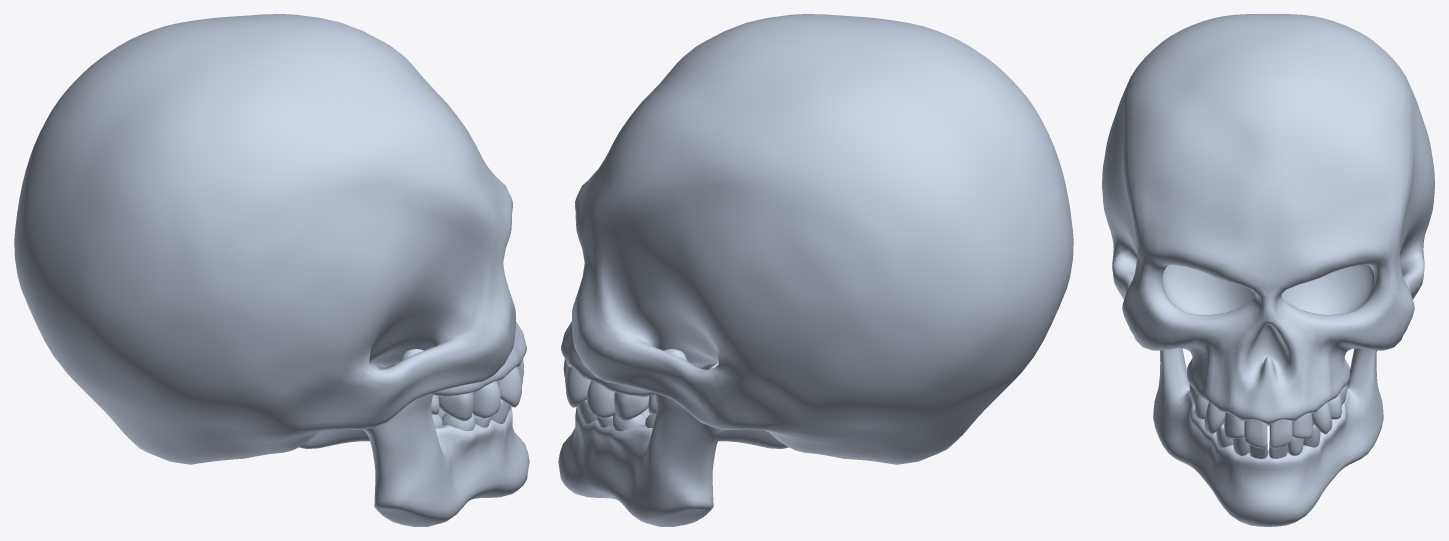
Rendered from Skull.fbx.
The picture shows the model from 3 angles, left to right: view 1: azimuth 30°, elevation 25°; view 2: azimuth 150°, elevation 25°; view 3: azimuth 270°, elevation 25°; orthographic projection. The views are drawn at different scales.
Visible parts, largest first — view 1: Skull, Jaw; view 2: Skull, Jaw; view 3: Skull, Jaw.
Boxes of the visible parts, bbox=[...] form: Skull: bbox=[14, 14, 526, 464]; Jaw: bbox=[299, 349, 529, 526]; Skull: bbox=[561, 14, 1073, 464]; Jaw: bbox=[558, 349, 788, 526]; Skull: bbox=[1102, 14, 1434, 448]; Jaw: bbox=[1153, 348, 1383, 526].
Bounding box in the file's own units: 2.84 × 2.86 × 2.18.
